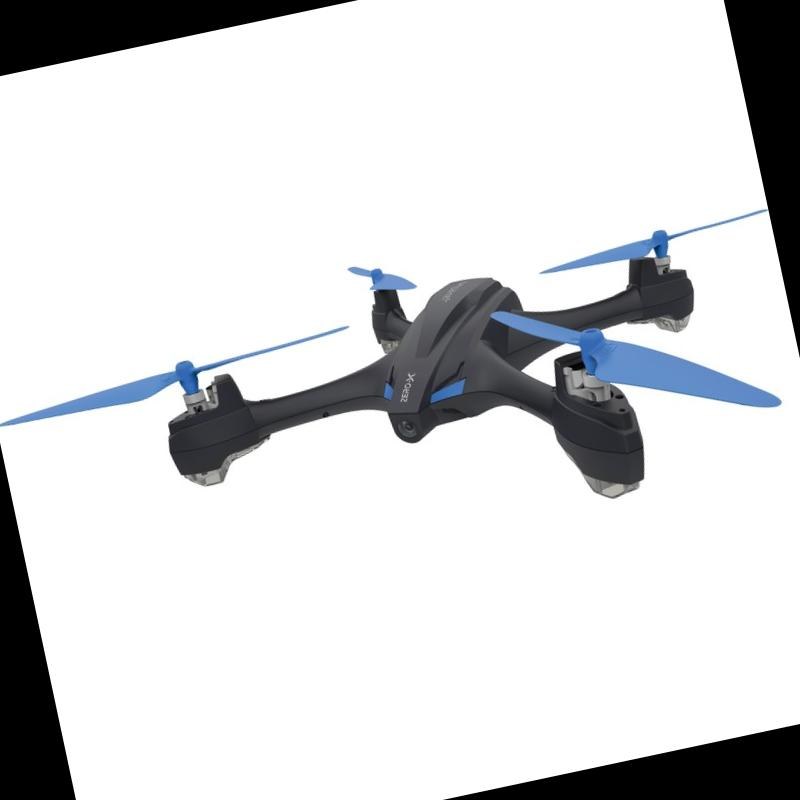drone: (18, 168, 800, 597)
